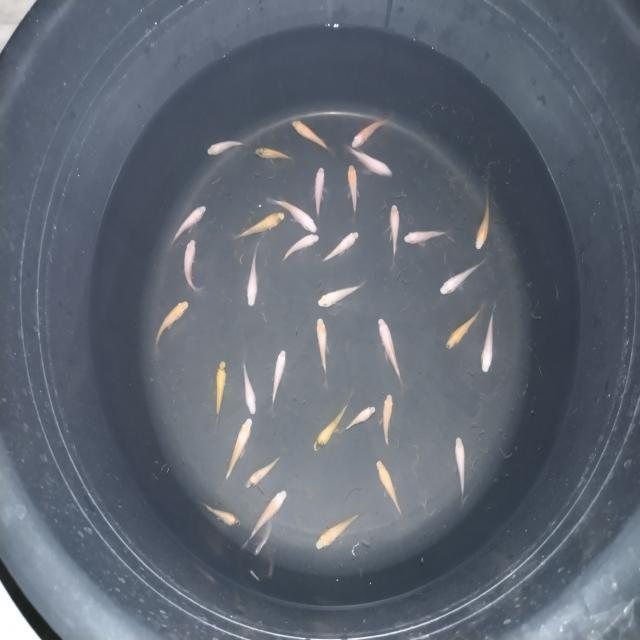nila: (236, 484, 294, 552), (310, 396, 354, 460), (217, 415, 256, 487), (376, 313, 408, 393), (164, 200, 211, 252), (372, 456, 408, 523), (314, 507, 363, 555), (442, 299, 486, 352), (437, 257, 494, 296), (153, 296, 191, 352), (268, 195, 324, 233), (241, 446, 286, 492), (288, 116, 336, 158), (342, 143, 394, 181), (312, 276, 367, 311), (318, 227, 362, 270), (348, 111, 396, 150), (230, 208, 285, 240), (479, 299, 500, 376), (238, 348, 260, 419), (195, 500, 245, 531), (312, 316, 332, 392), (280, 230, 321, 266), (210, 356, 230, 429), (204, 132, 252, 162), (244, 239, 264, 309), (180, 238, 204, 296), (473, 186, 494, 252), (268, 344, 288, 412), (341, 400, 378, 436), (452, 432, 469, 509), (308, 162, 328, 222), (387, 200, 403, 274), (402, 227, 454, 248), (379, 388, 396, 452), (344, 163, 362, 218), (252, 147, 296, 166)
